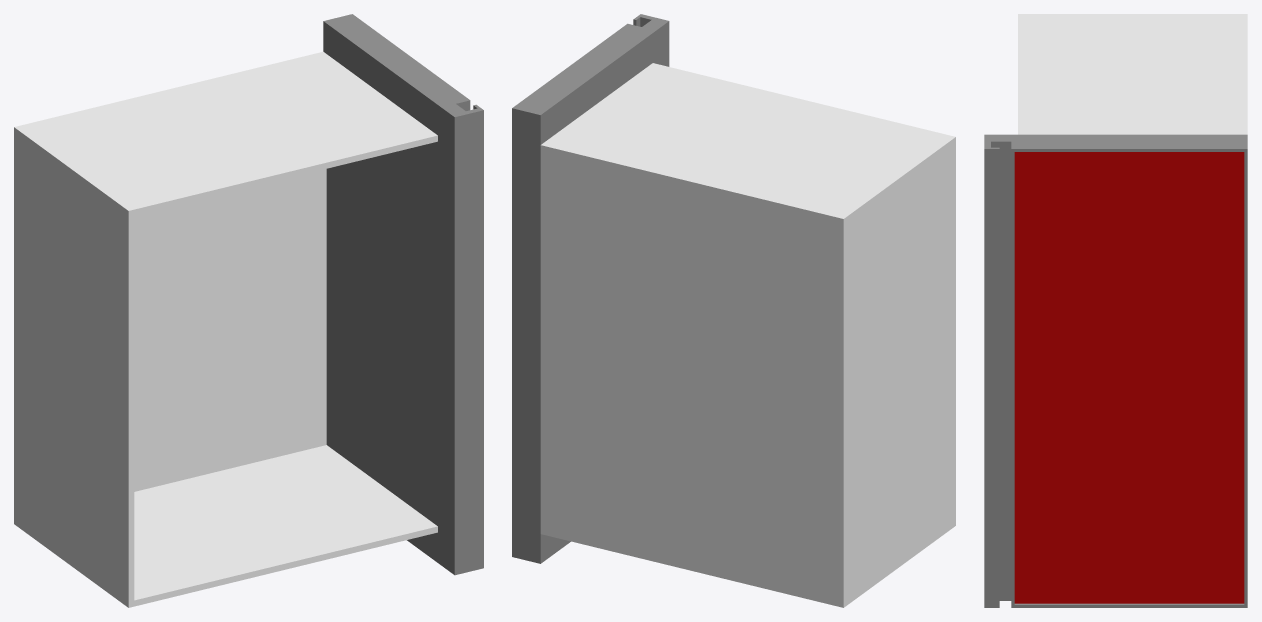
File: ROOM602-KITCHEN-BODYSET8_link_mesh.dae
3 renders of one model, left to right at view 1: azimuth 30°, elevation 25°; view 2: azimuth 150°, elevation 25°; view 3: azimuth 270°, elevation 25°, orthographic. The views are drawn at different scales.
Visible parts, largest first — view 1: ROOM602-KITCHEN-BODYSET8_link (×2); view 2: ROOM602-KITCHEN-BODYSET8_link (×2); view 3: ROOM602-KITCHEN-BODYSET8_link (×3).
Boxes of the visible parts, x1,y1,x2,y2 form: ROOM602-KITCHEN-BODYSET8_link (×2): (14,14,483,607); ROOM602-KITCHEN-BODYSET8_link (×2): (512,14,955,607); ROOM602-KITCHEN-BODYSET8_link (×3): (984,14,1247,607).
Bounding box in the file's own units: 0.58 × 0.75 × 0.39.
